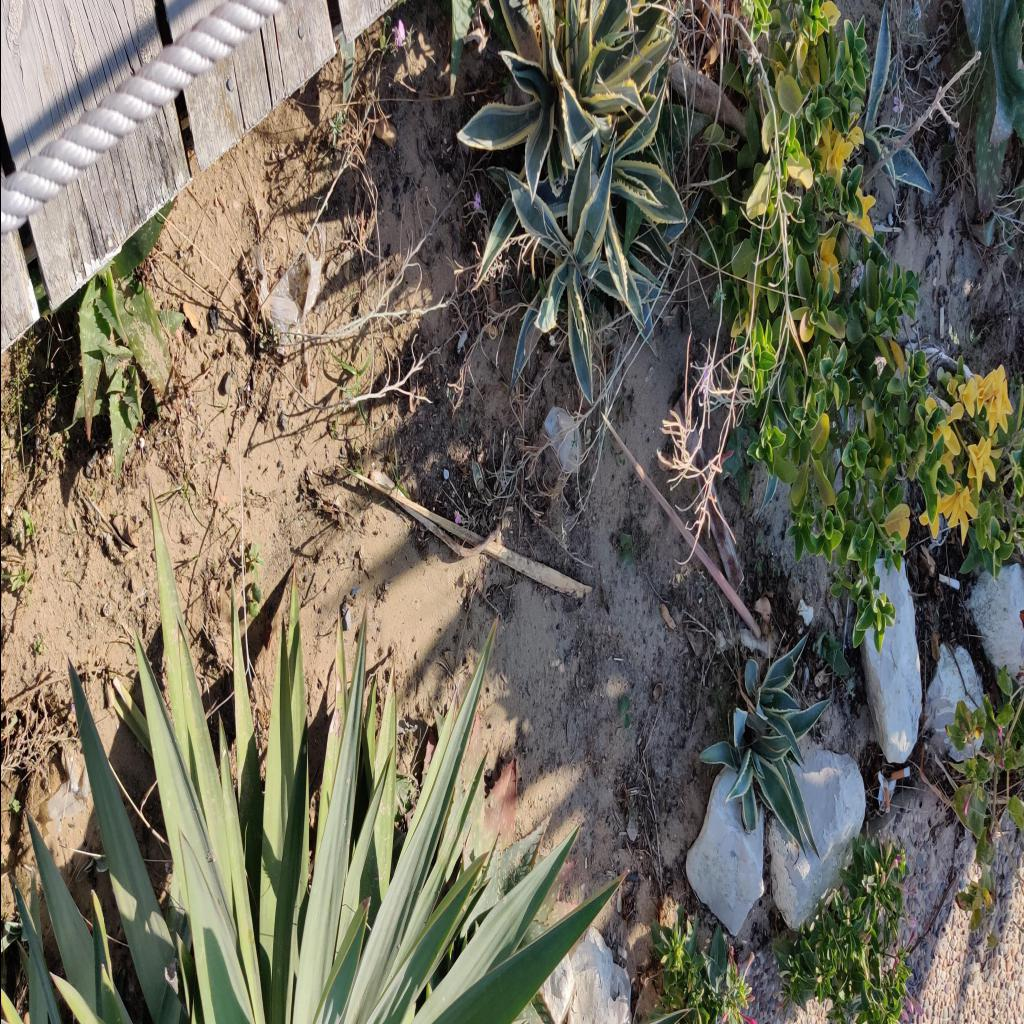Cigarette: (937, 573, 959, 589), (890, 765, 910, 782), (938, 306, 944, 338)
Plastic film: (254, 214, 324, 352), (46, 753, 88, 835), (544, 407, 580, 474), (882, 780, 890, 812)
